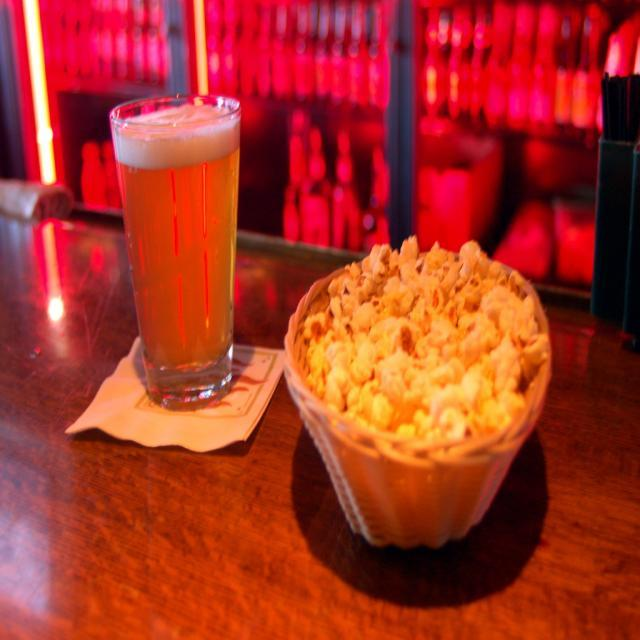Popcorn: (303, 229, 547, 439)
